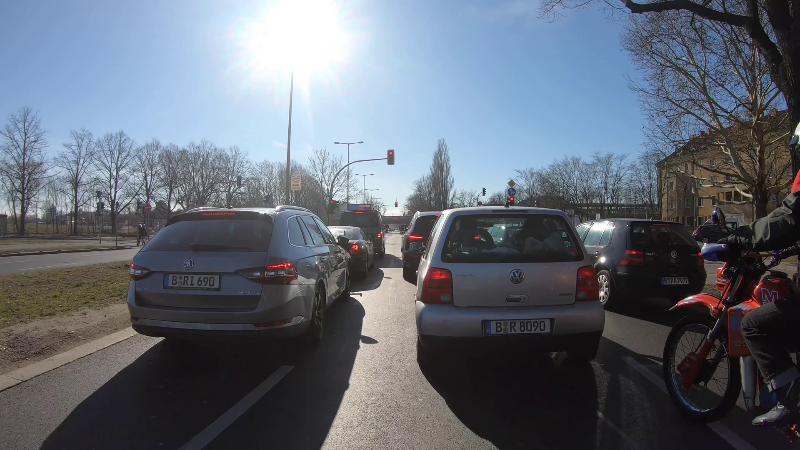Plate: (477, 316, 558, 336), (160, 270, 222, 292), (657, 275, 689, 287)
